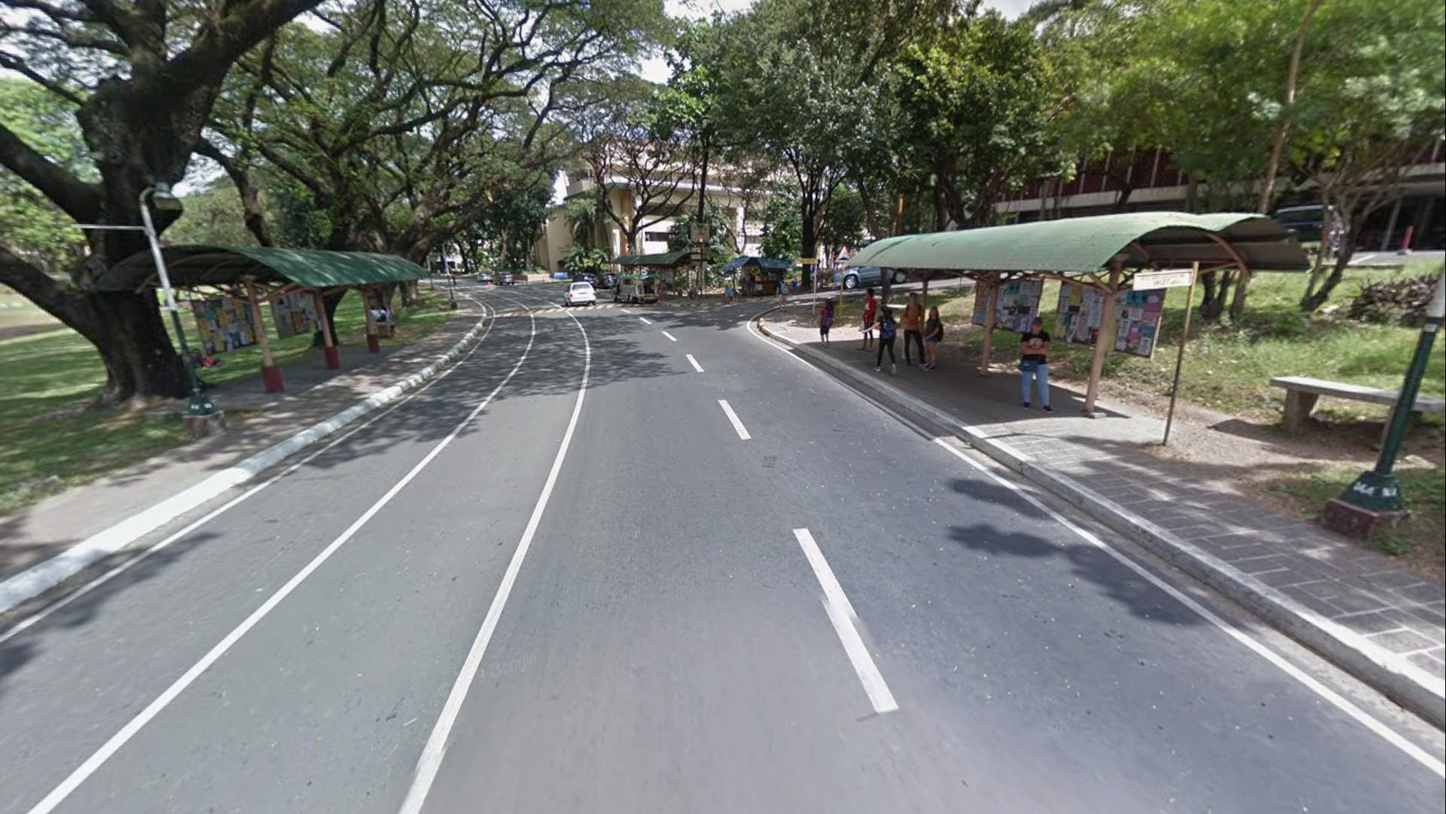pedestrian: (1017, 315, 1057, 413), (859, 304, 900, 376), (900, 291, 927, 365), (921, 306, 945, 372), (856, 286, 875, 353), (813, 298, 836, 349), (774, 275, 790, 313), (365, 301, 380, 330), (376, 301, 391, 329), (745, 271, 755, 300), (723, 283, 735, 305), (451, 273, 458, 289)
